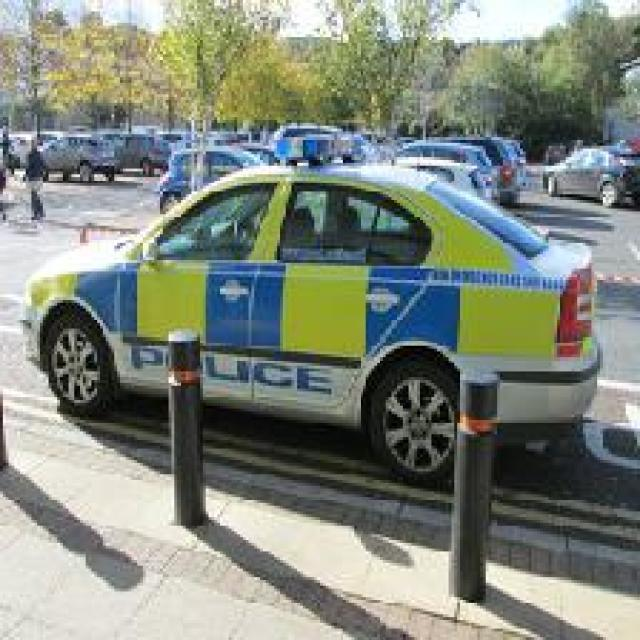emergency: (18, 160, 604, 488)
